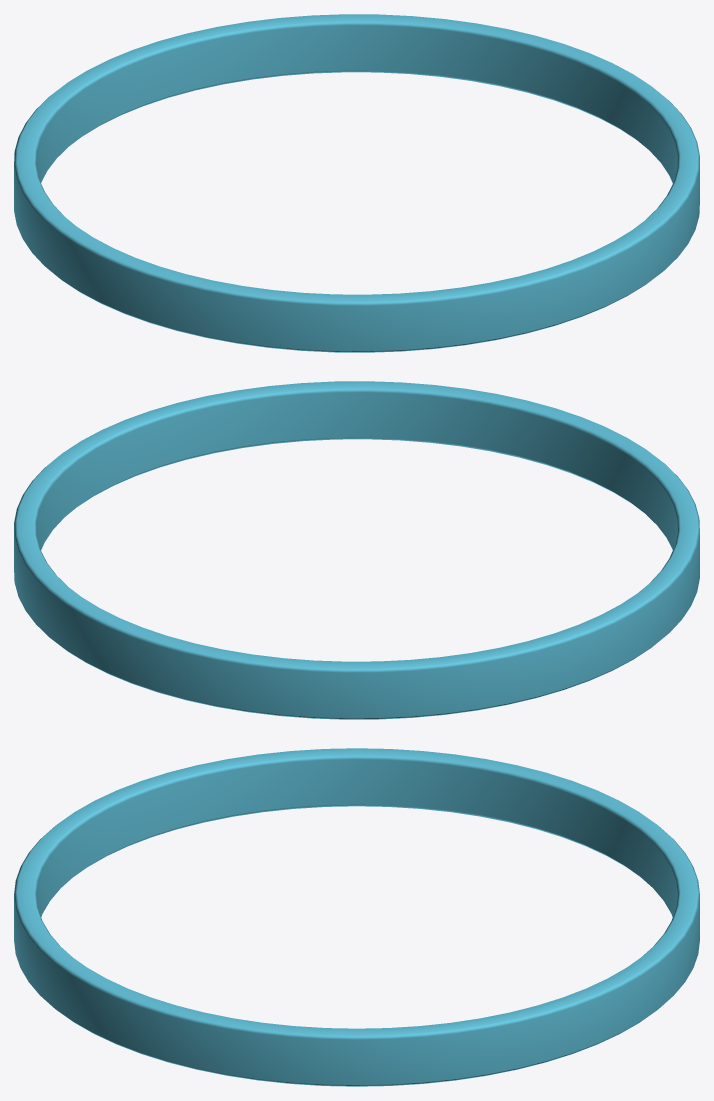
3 renders of one model, top to bottom at view 1: azimuth 30°, elevation 25°; view 2: azimuth 150°, elevation 25°; view 3: azimuth 270°, elevation 25°, orthographic.
Parts seen in each view (by area): view 1: seal_body; view 2: seal_body; view 3: seal_body.
Boxes of the visible parts, left/top/right/bottom form: seal_body: left=14, top=14, right=699, bottom=352; seal_body: left=14, top=381, right=699, bottom=719; seal_body: left=14, top=748, right=699, bottom=1086.
Bounding box in the file's own units: 0.0762 × 0.0063 × 0.0762.
